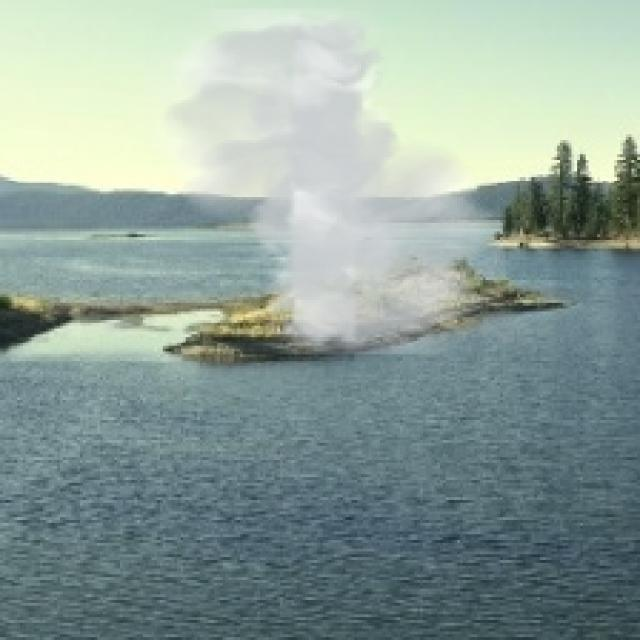smoke: (143, 9, 506, 354)
